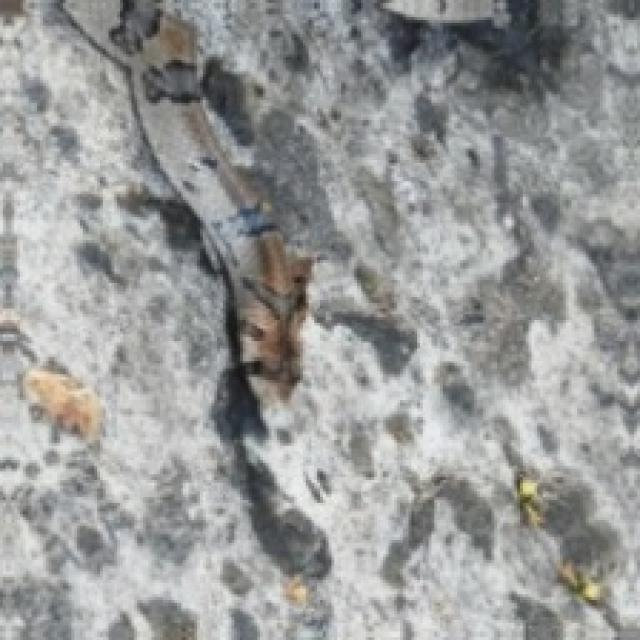northern short-headed snake: (60, 0, 309, 403)
